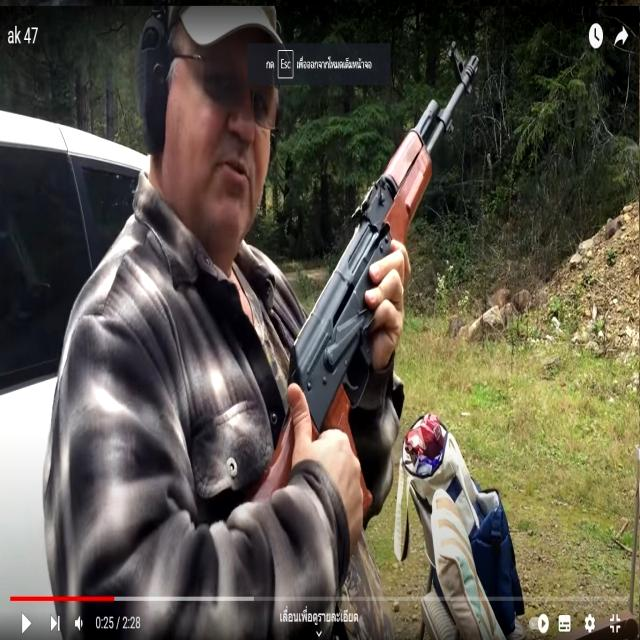ak: (251, 44, 483, 557)
